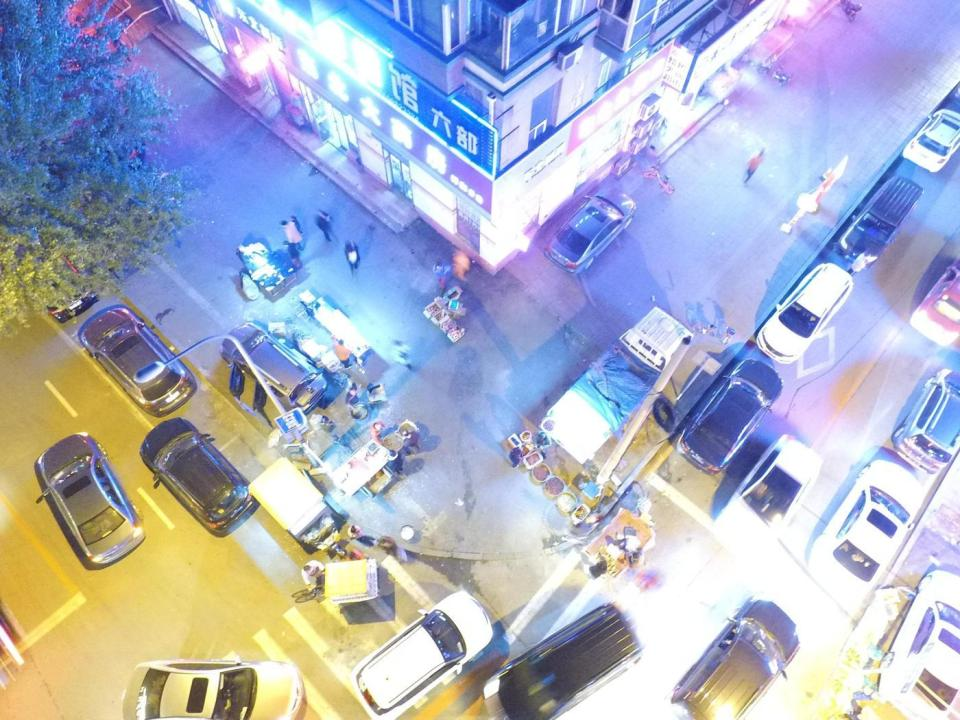car: (482, 600, 643, 720), (348, 590, 494, 719), (807, 459, 925, 605), (669, 594, 801, 720), (37, 430, 147, 568), (138, 416, 262, 538), (713, 434, 824, 560), (79, 305, 198, 418), (675, 358, 784, 476), (877, 568, 959, 720), (122, 658, 306, 720), (218, 322, 329, 415), (756, 262, 854, 365), (3, 231, 101, 324), (543, 187, 636, 276), (891, 368, 960, 474), (909, 240, 960, 347), (902, 108, 959, 172)
truck: (543, 304, 693, 464)
van: (835, 174, 925, 270)
